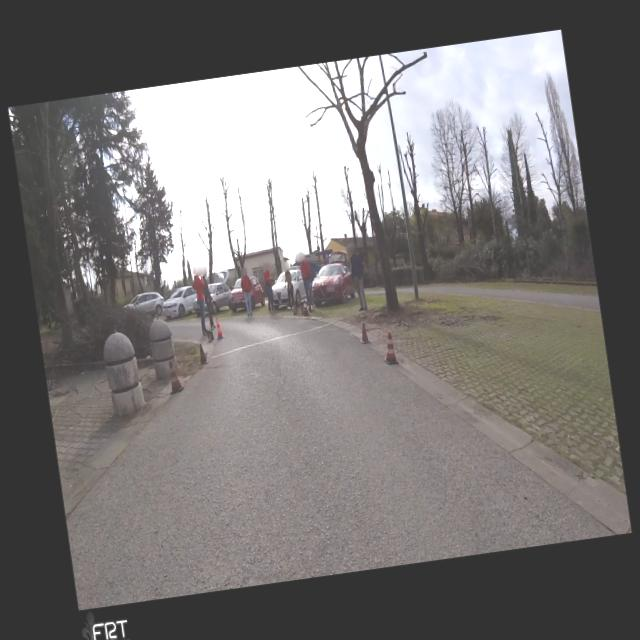large_orange_cone: (166, 360, 185, 393), (381, 332, 398, 366), (213, 316, 225, 339)
orange_cone: (302, 300, 308, 312)
unknown_cone: (357, 322, 371, 344), (198, 342, 210, 364), (207, 332, 215, 342)
